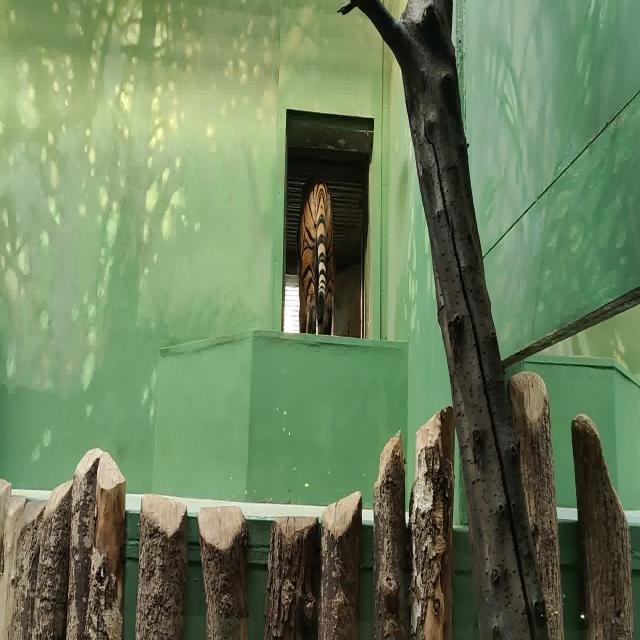tiger: (297, 176, 334, 335)
